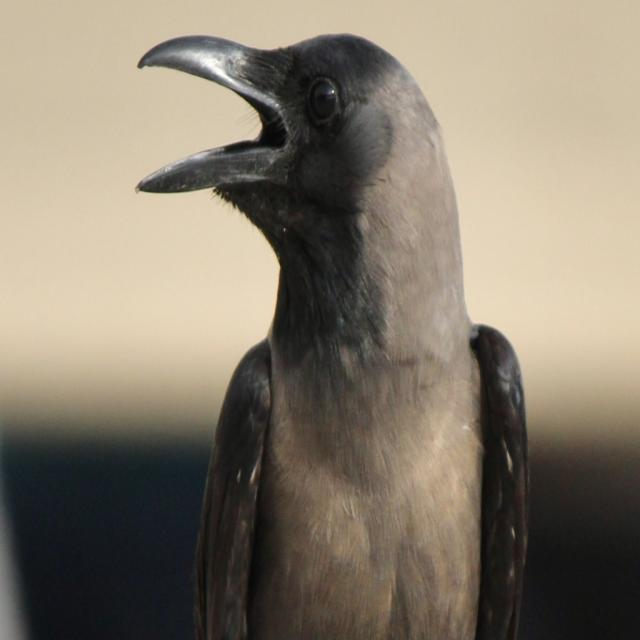bird: (132, 25, 536, 640)
